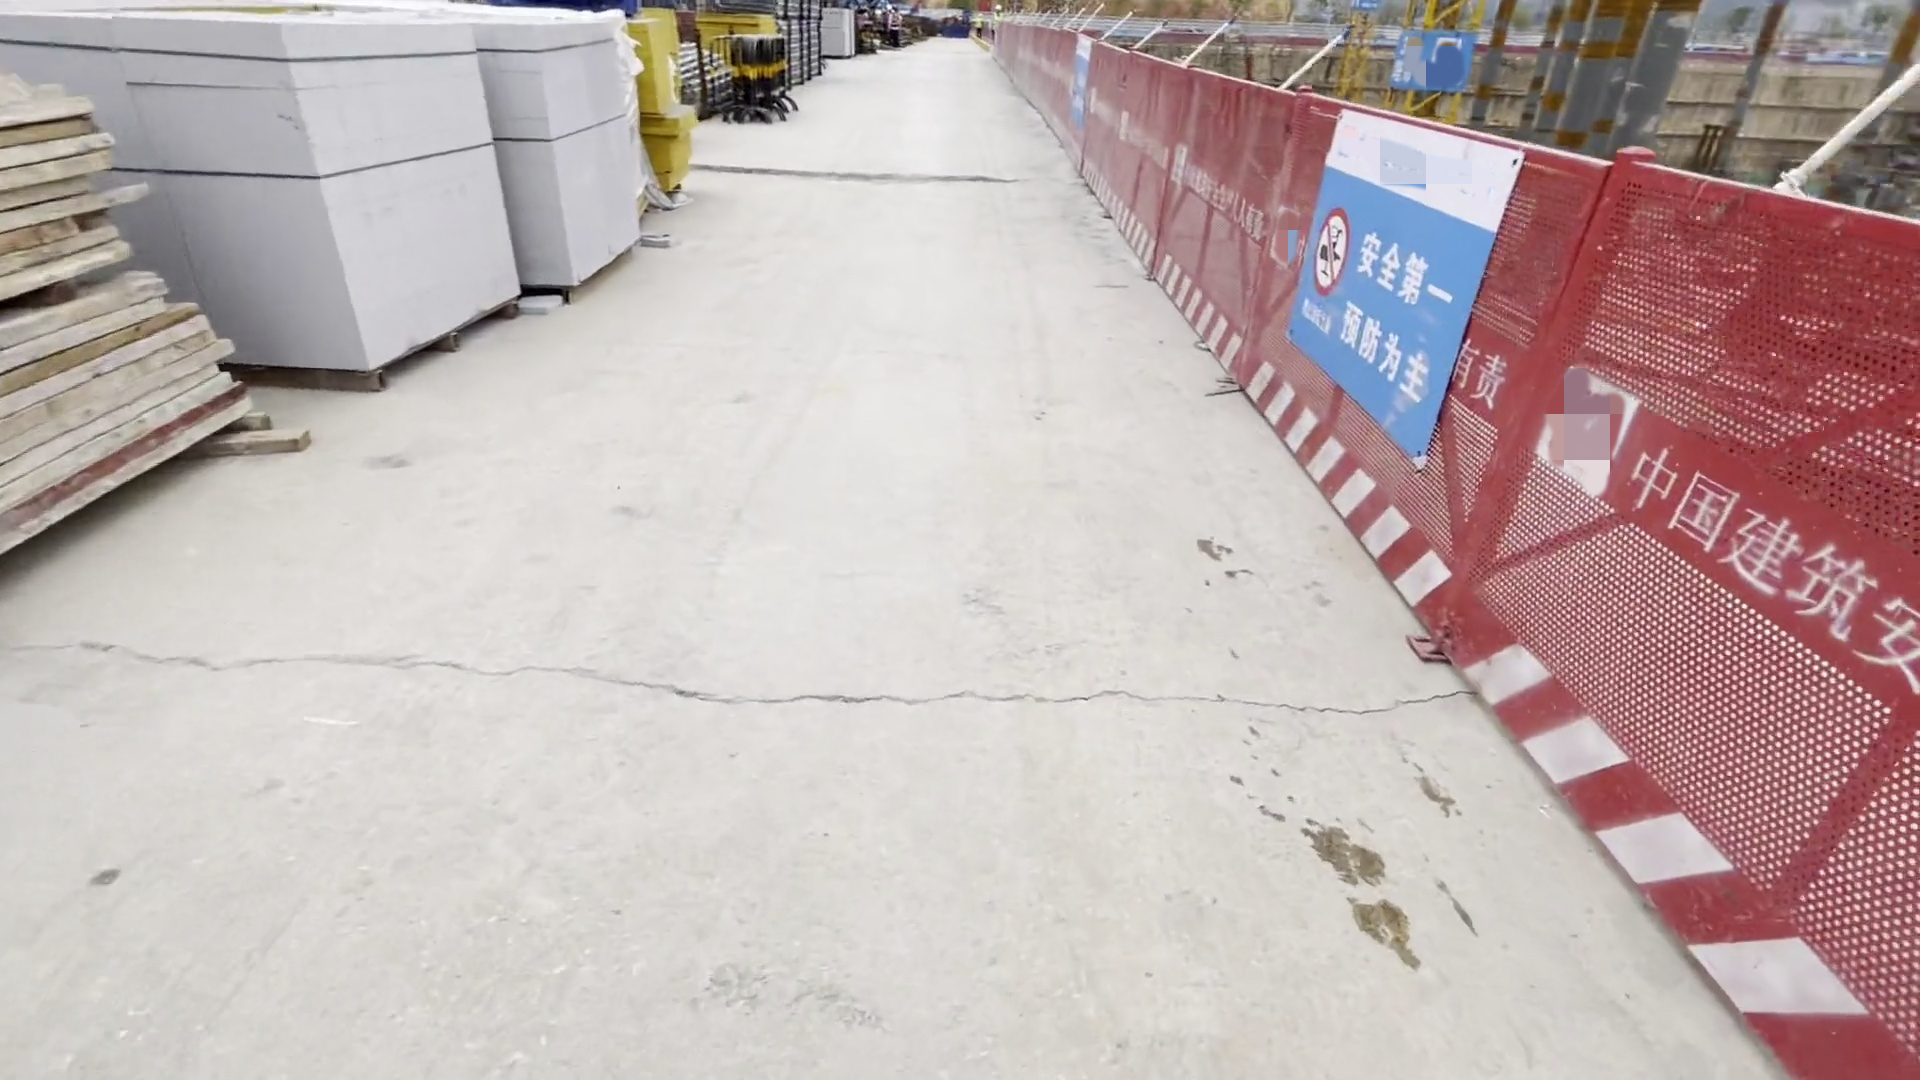brick: (1, 13, 524, 396), (462, 1, 662, 302)
fence: (1522, 178, 1920, 1060), (981, 22, 1298, 384)
slogan: (1286, 170, 1514, 442)
